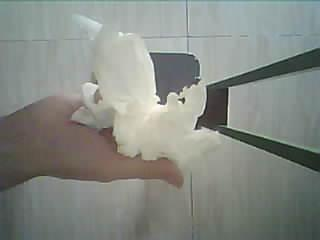paper: (71, 32, 242, 175)
